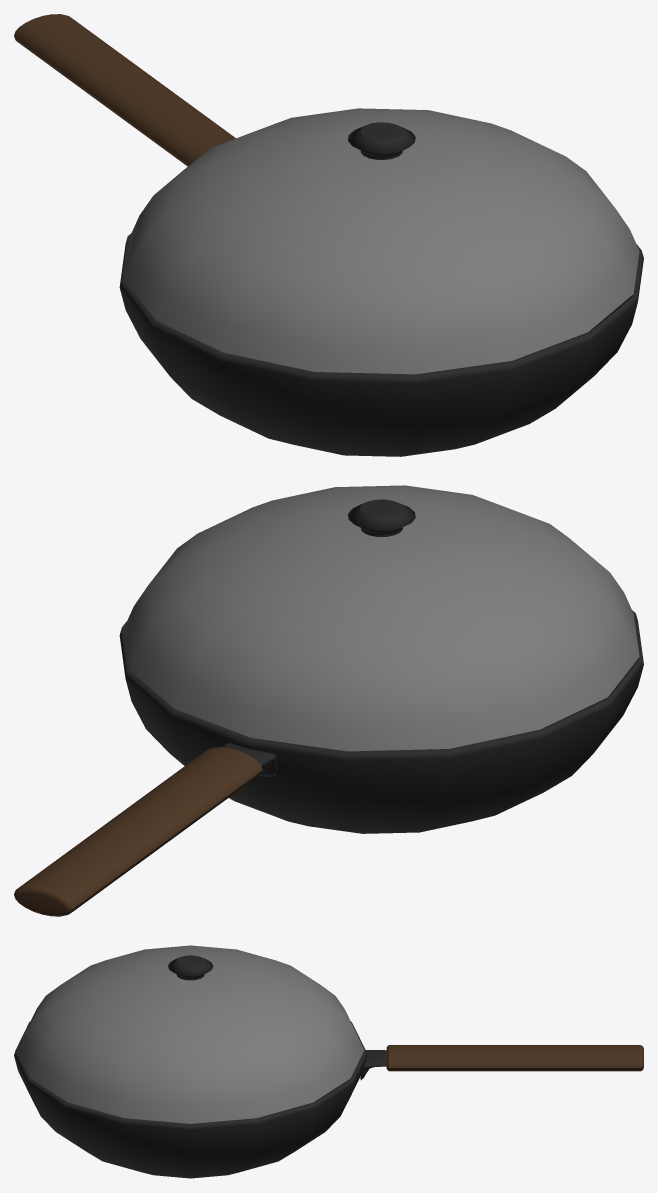
File: Wok.fbx
3 renders of one model, top to bottom at view 1: azimuth 30°, elevation 25°; view 2: azimuth 150°, elevation 25°; view 3: azimuth 270°, elevation 25°, orthographic. The views are drawn at different scales.
Visible parts, largest first — view 1: Hood, Wok, Handle, Holder; view 2: Hood, Wok, Handle, Holder, Connect; view 3: Hood, Wok, Handle, Holder, Connect.
Boxes of the visible parts, left/top/right/bottom form: Hood: left=124, top=108, right=639, bottom=374; Wok: left=119, top=233, right=643, bottom=456; Handle: left=14, top=14, right=235, bottom=166; Holder: left=348, top=122, right=415, bottom=159; Hood: left=124, top=485, right=639, bottom=751; Wok: left=119, top=610, right=643, bottom=833; Handle: left=14, top=747, right=262, bottom=916; Holder: left=348, top=499, right=415, bottom=536; Connect: left=221, top=743, right=277, bottom=776; Hood: left=17, top=945, right=364, bottom=1123; Wok: left=14, top=1021, right=367, bottom=1178; Handle: left=386, top=1045, right=643, bottom=1071; Holder: left=168, top=955, right=213, bottom=980; Connect: left=360, top=1050, right=386, bottom=1080.
Bounding box in the file's own units: 2.09 × 1.27 × 3.72.
